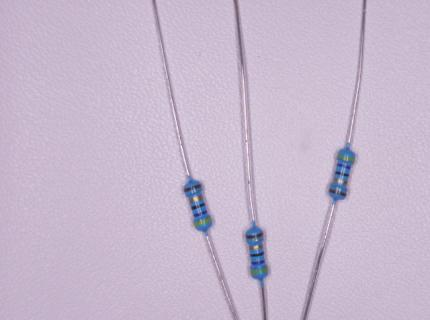Gold band: (188, 195, 204, 203), (333, 178, 348, 185), (249, 245, 263, 251)
Violet band: (193, 210, 208, 218), (336, 163, 352, 170), (251, 260, 265, 266)
Yellow band: (194, 217, 212, 227), (337, 153, 355, 162), (251, 268, 268, 274)
